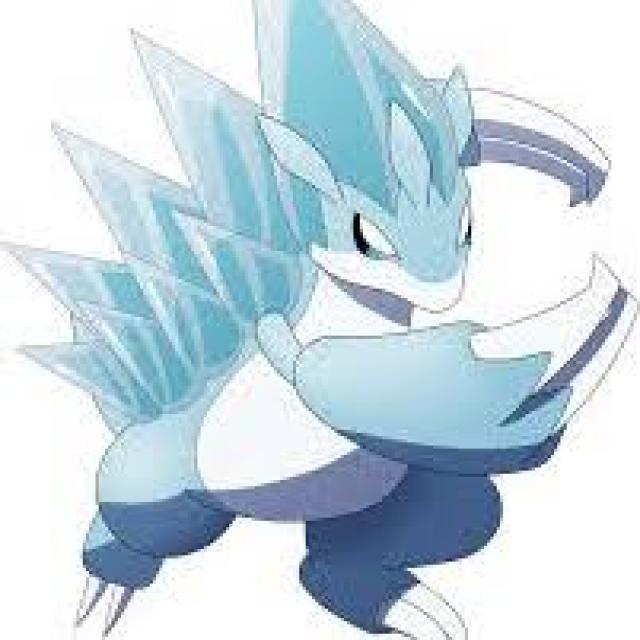Alolan: (49, 17, 563, 624)
